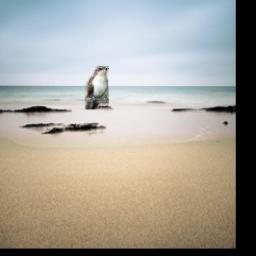Cuckoo: (86, 67, 110, 110)
